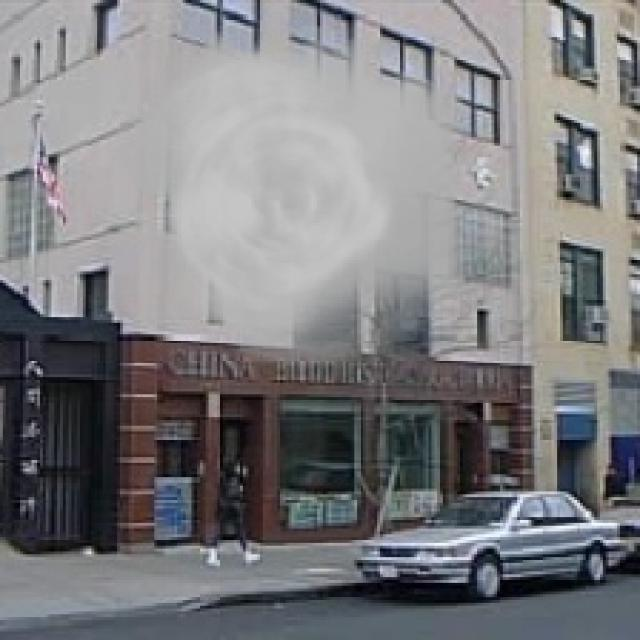Smoke: (106, 26, 486, 368)
